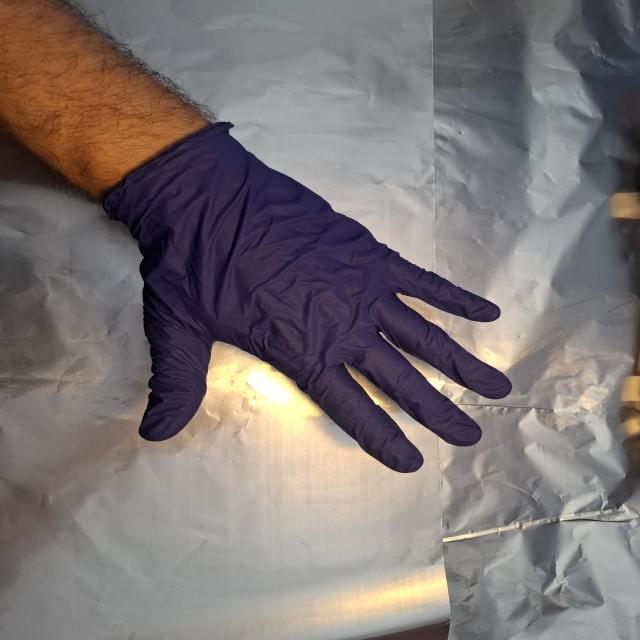glove_on: (107, 121, 515, 475)
